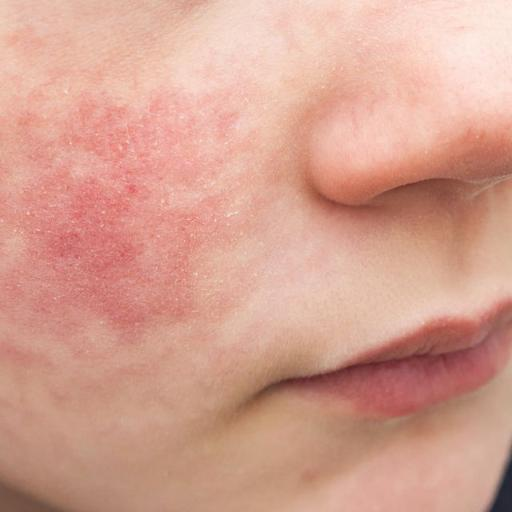Skin_Lesion: (48, 177, 130, 235), (82, 250, 146, 320), (162, 220, 192, 294), (109, 126, 173, 160), (172, 0, 218, 20)
